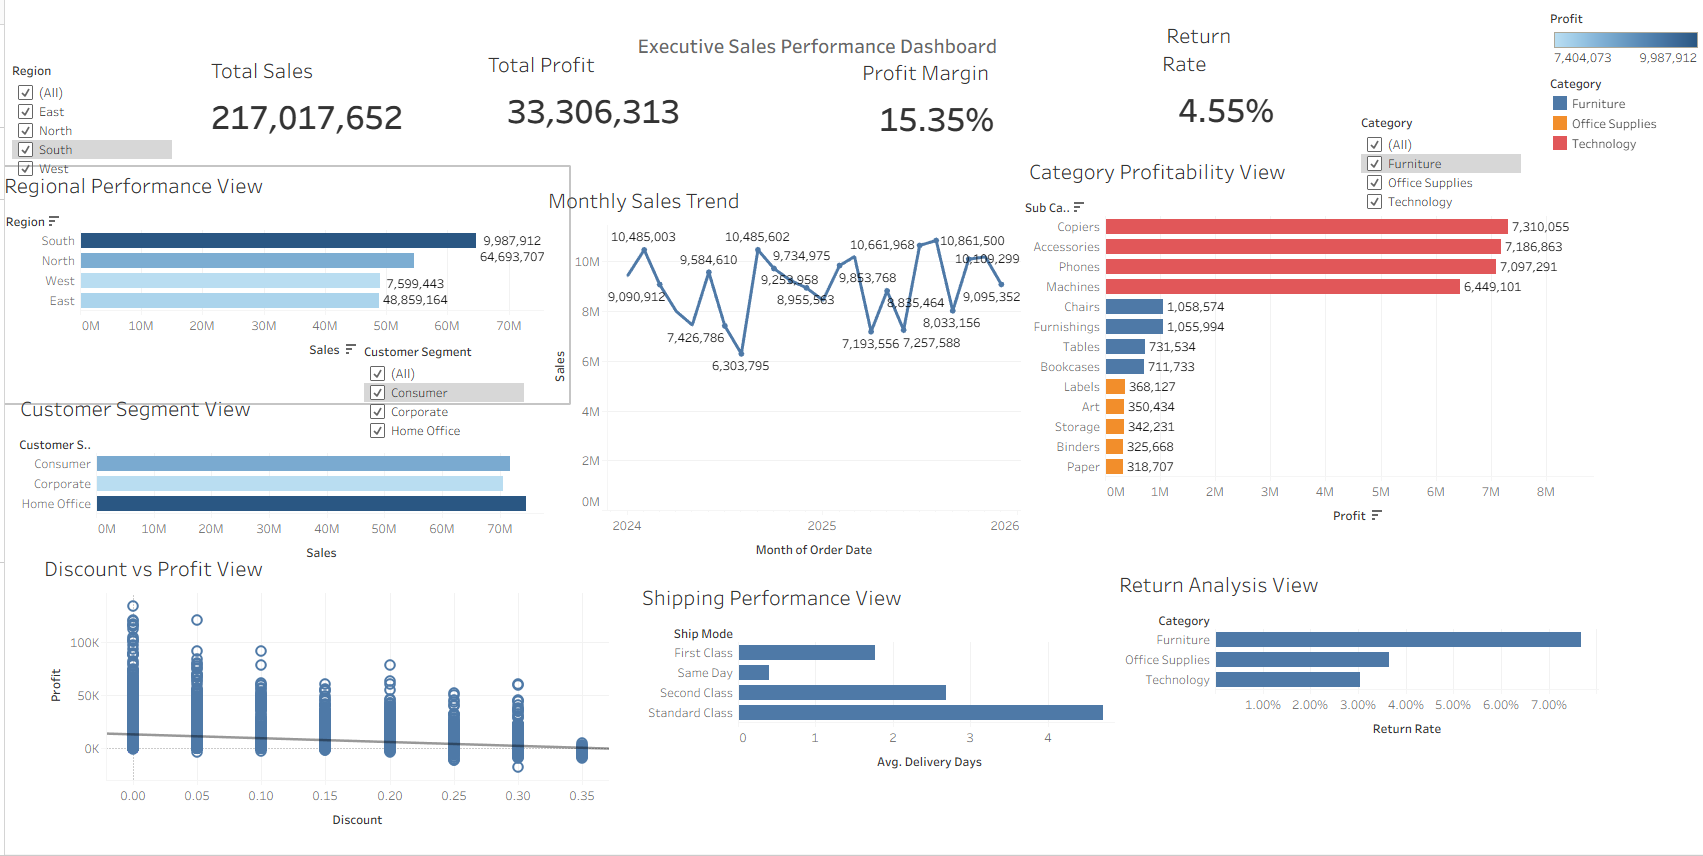

This screenshot's page, from the dashboard's own definition file:
{"tool":"tableau","page":{"name":"Dashboard 1","canvas":[1000,1000],"units":"permille","ordinal":0},"visuals":[{"type":"legend","title":"Regional Performance View","param":"[federated.1wk40na0exn92o1cds3j80yk9f66].[sum:profit:qk]","box":[901.7,9.3,93.6,75.9]},{"type":"text","box":[368.6,19.9,218.3,70.1]},{"type":"worksheet","title":"Total Profit","mark":"Automatic","box":[280.3,56.1,332.9,332.9]},{"type":"worksheet","title":"Total Sales","mark":"Automatic","box":[118.2,63.1,332.9,332.9]},{"type":"worksheet","title":"Profit Margin","mark":"Automatic","box":[499.1,65.4,332.9,332.9]},{"type":"filter","title":"Regional Performance View","param":"[federated.1wk40na0exn92o1cds3j80yk9f66].[none:region:nk]","box":[4.1,74.8,93.6,139]},{"type":"legend","title":"Category Profitability View","param":"[federated.1wk40na0exn92o1cds3j80yk9f66].[none:category:nk]","box":[901.7,85.3,93.6,100.5]},{"type":"filter","title":"Category Profitability View","param":"[federated.1wk40na0exn92o1cds3j80yk9f66].[none:category:nk]","box":[793.5,135.5,93.6,116.8]},{"type":"worksheet","title":"Category Profitability View","mark":"Automatic","rows":["sub_category"],"cols":["profit"],"box":[596.8,181.1,332.9,448.6]},{"type":"worksheet","title":"Monthly Sales Trend","mark":"Automatic","rows":["sales"],"cols":["order_date"],"box":[315.4,215,279.1,447.4]},{"type":"filter","title":"Customer Segment View","param":"[federated.1wk40na0exn92o1cds3j80yk9f66].[none:customer_segment:nk]","box":[210.1,403,93.6,129.7]},{"type":"worksheet","title":"Customer Segment View","mark":"Automatic","rows":["customer_segment"],"cols":["sales"],"box":[6.4,457.9,310.7,219.6]},{"type":"worksheet","title":"Discount vs Profit View","mark":"Automatic","rows":["profit"],"cols":["discount"],"box":[20.5,644.9,332.9,332.9]},{"type":"worksheet","title":"Return Analysis View","mark":"Automatic","rows":["category"],"cols":["Calculation_1305136422342660"],"box":[649.5,663.6,283.2,332.9]},{"type":"worksheet","title":"Shipping Performance View","mark":"Automatic","rows":["ship_mode"],"cols":["delivery_days"],"box":[370.4,678.7,282.6,236]}]}

Visuals, with their boxes on the dashboard's canvas, which has no fixed pixel size, in thousandths of its width and height (x1, y1, x2, y2). These are canvas units, not pixel positions in the 1703x856 screenshot, which may show the page scaled, cropped or inside an application window:
"Regional Performance View" legend: {"left": 902, "top": 9, "right": 995, "bottom": 85}
text: {"left": 369, "top": 20, "right": 587, "bottom": 90}
"Total Profit" worksheet: {"left": 280, "top": 56, "right": 613, "bottom": 389}
"Total Sales" worksheet: {"left": 118, "top": 63, "right": 451, "bottom": 396}
"Profit Margin" worksheet: {"left": 499, "top": 65, "right": 832, "bottom": 398}
"Regional Performance View" filter: {"left": 4, "top": 75, "right": 98, "bottom": 214}
"Category Profitability View" legend: {"left": 902, "top": 85, "right": 995, "bottom": 186}
"Category Profitability View" filter: {"left": 794, "top": 136, "right": 887, "bottom": 252}
"Category Profitability View" worksheet: {"left": 597, "top": 181, "right": 930, "bottom": 630}
"Monthly Sales Trend" worksheet: {"left": 315, "top": 215, "right": 594, "bottom": 662}
"Customer Segment View" filter: {"left": 210, "top": 403, "right": 304, "bottom": 533}
"Customer Segment View" worksheet: {"left": 6, "top": 458, "right": 317, "bottom": 678}
"Discount vs Profit View" worksheet: {"left": 20, "top": 645, "right": 353, "bottom": 978}
"Return Analysis View" worksheet: {"left": 650, "top": 664, "right": 933, "bottom": 996}
"Shipping Performance View" worksheet: {"left": 370, "top": 679, "right": 653, "bottom": 915}
